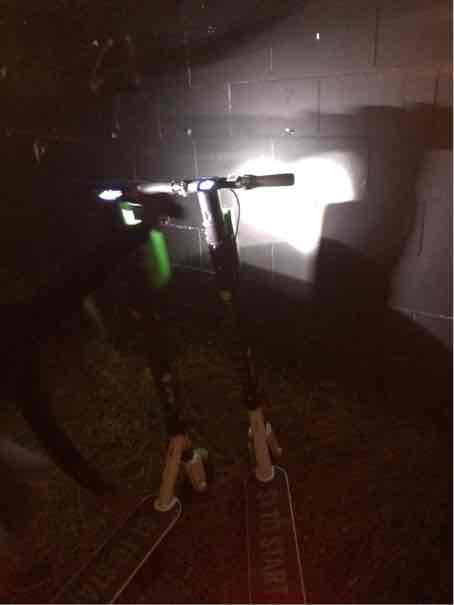scooter: (133, 167, 314, 605), (49, 172, 214, 605)
